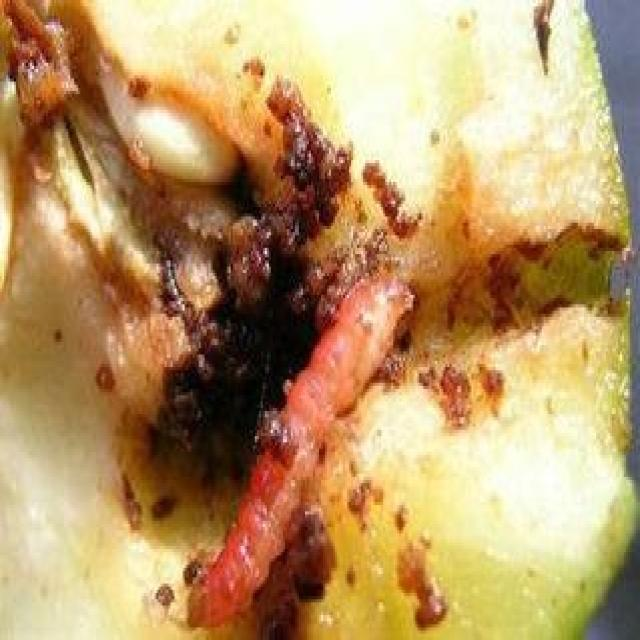peach borer: (185, 271, 415, 628)
